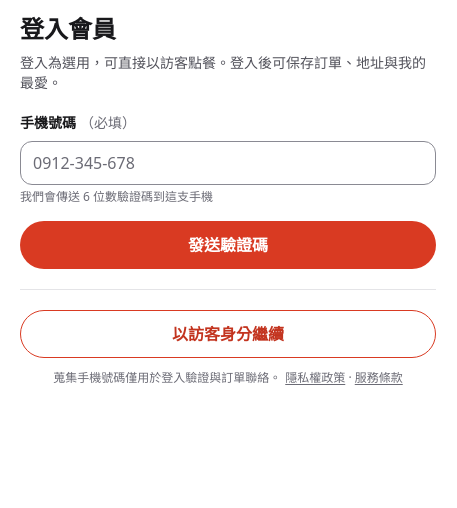
Test: LoginPage › 輸入時自動插入連字號，送出時以純數字呼叫 sendOtp
The image size is (457, 508).
Type "0912345678" into the field labelled "手機號碼（必填）" at (228,163), box [20,141,436,185]
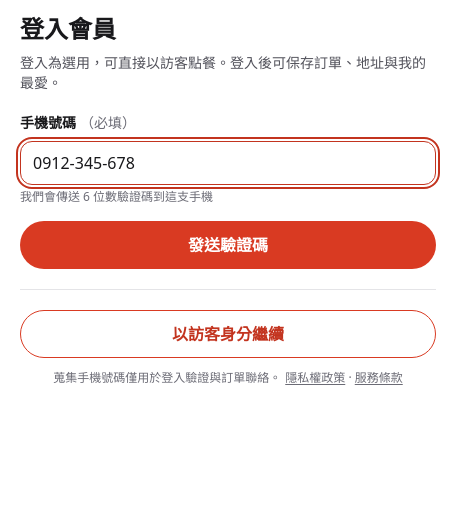
Check: the field labelled "手機號碼（必填）" holds "0912-345-678", box [20,141,436,185]
Click the button "發送驗證碼" at (228,245), box [20,221,436,269]
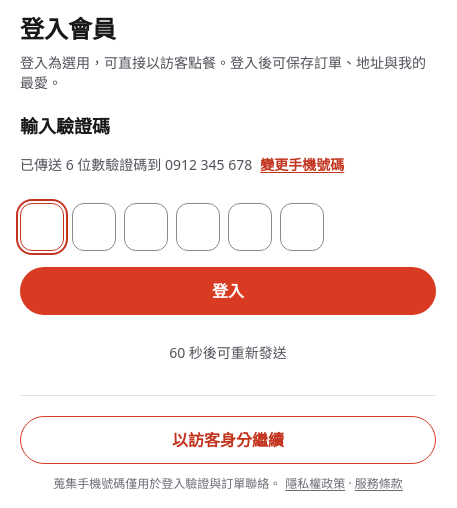
Check: the element named "驗證碼" is shown, box [20,203,324,251]
Check: the text "60 秒後可重新發送" is shown, box [169,343,287,363]
